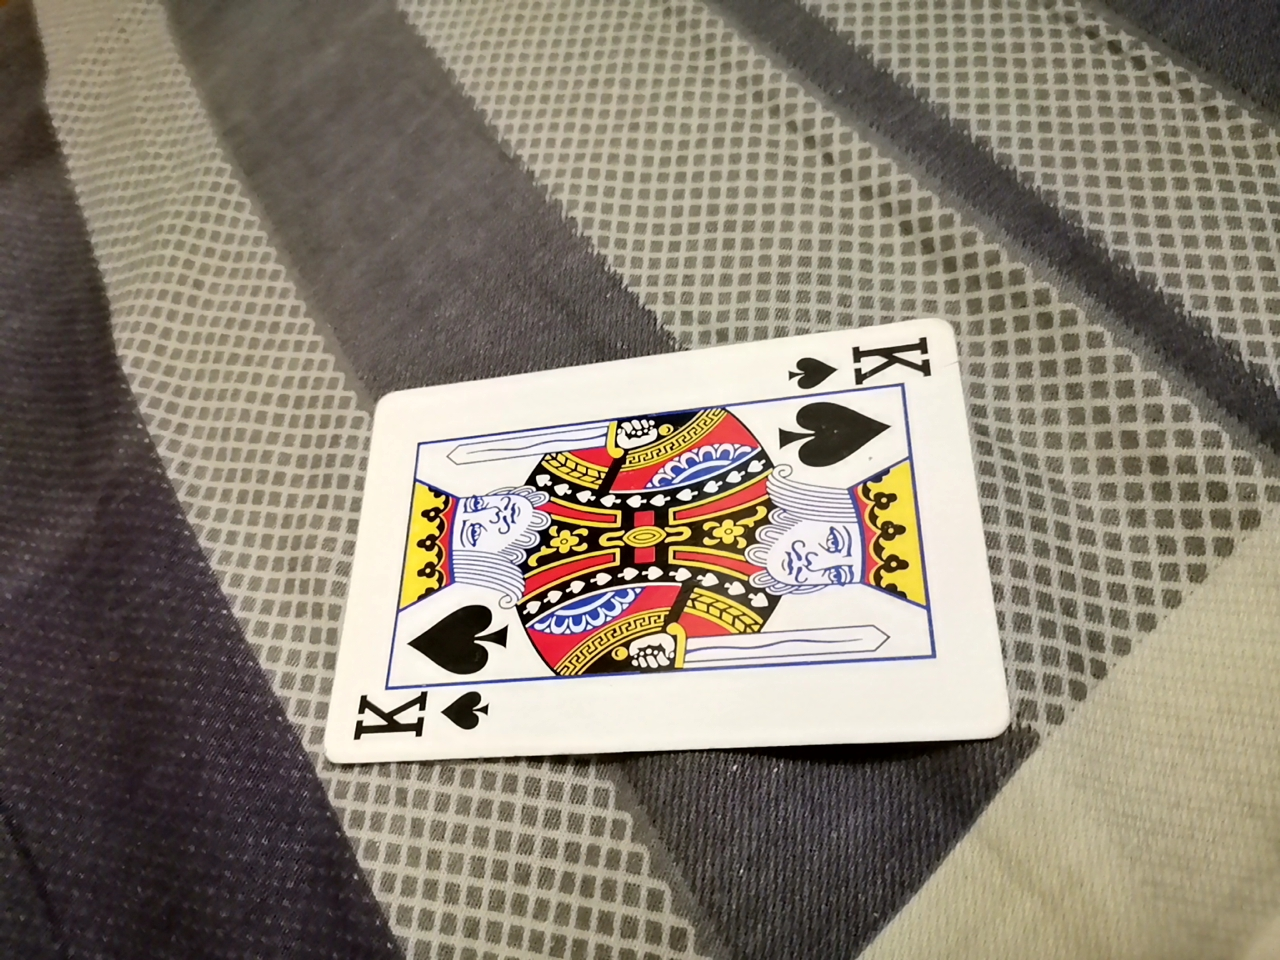ht k: (319, 303, 997, 764)
